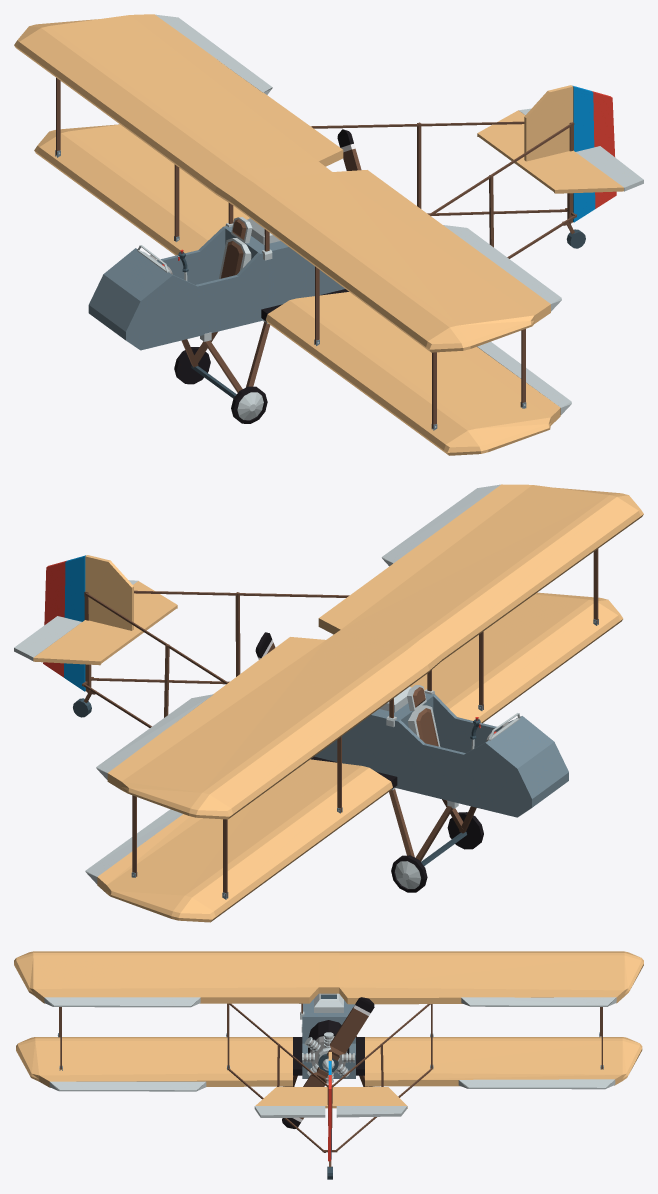
File: bumblebee.glb
3 renders of one model, top to bottom at view 1: azimuth 30°, elevation 25°; view 2: azimuth 150°, elevation 25°; view 3: azimuth 270°, elevation 25°, orthographic. The views are drawn at different scales.
Visible parts, largest first — view 1: group900679359; view 2: group900679359; view 3: group900679359.
Boxes of the visible parts, x1,y1,x2,y2 form: group900679359: (14, 14, 643, 455); group900679359: (14, 484, 643, 922); group900679359: (14, 951, 643, 1179).
Bounding box in the file's own units: 5.53 × 2.41 × 8.21.
1 material, 1 textured.
